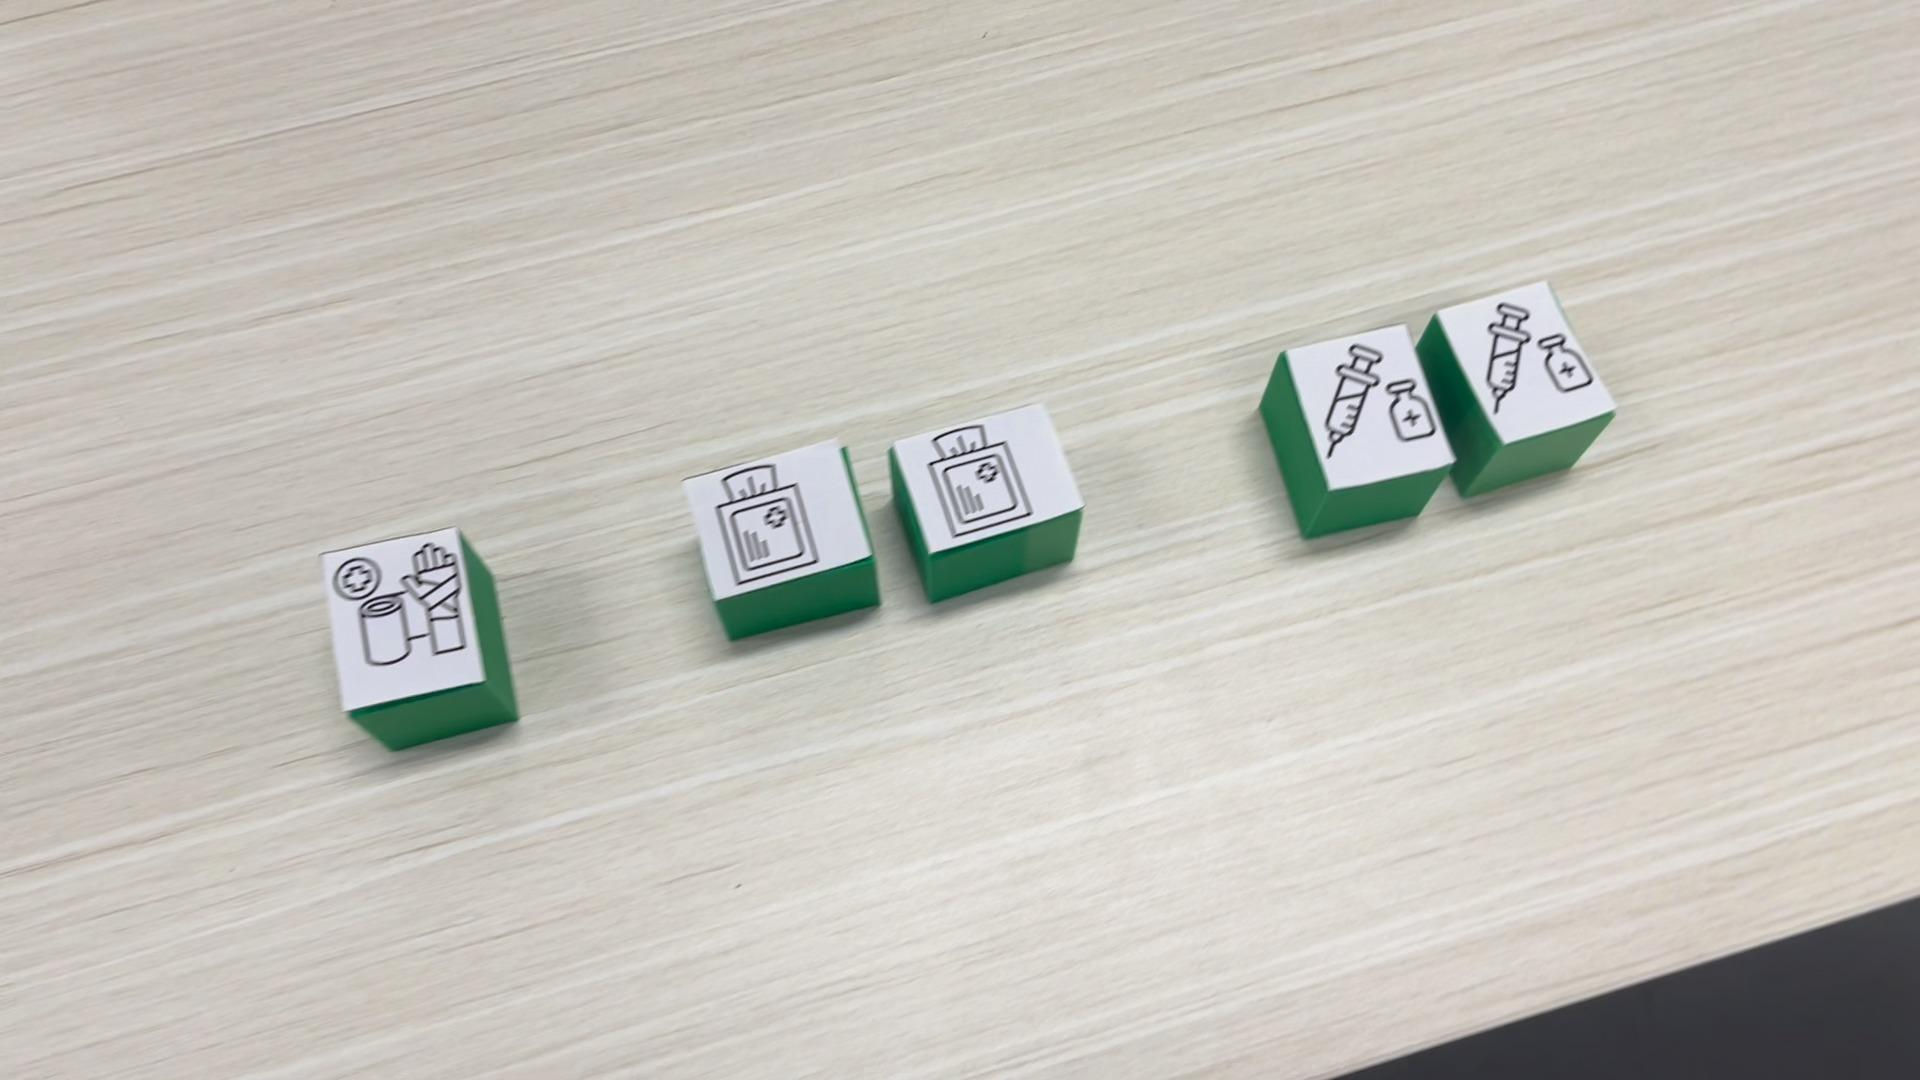Bandages: (316, 524, 520, 752)
Gauze: (878, 400, 1087, 601), (683, 434, 876, 642)
antiseptic cream: (1261, 324, 1460, 542), (1425, 278, 1615, 496)
